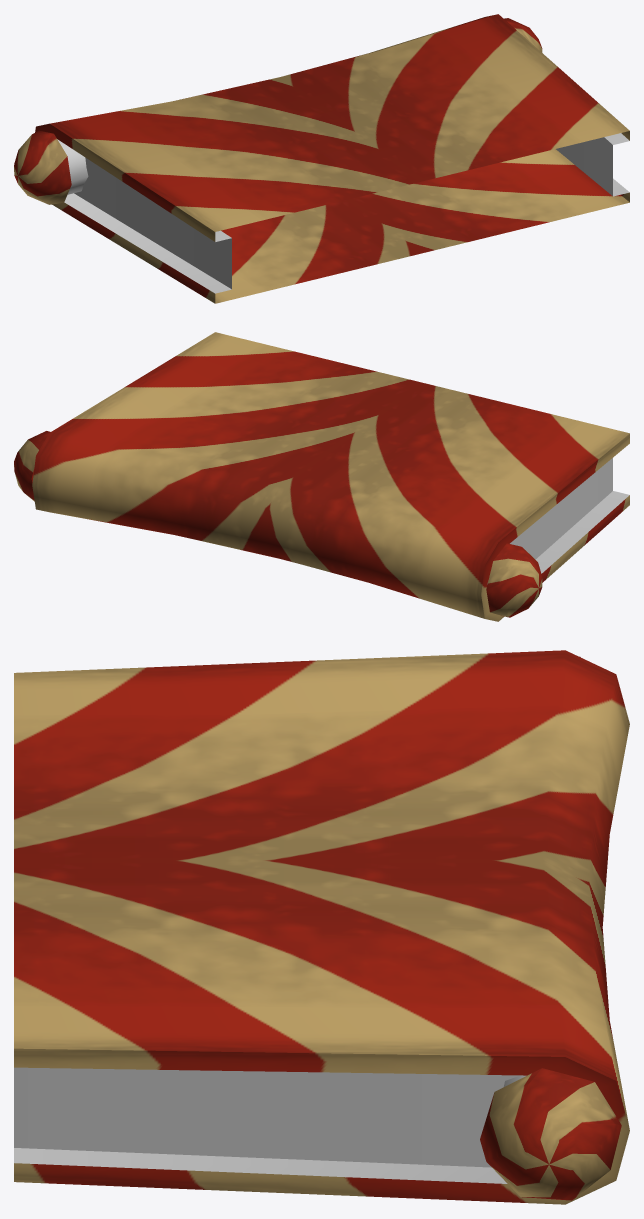
File: MOD_Roller_3_B.FBX
3 renders of one model, top to bottom at view 1: azimuth 30°, elevation 25°; view 2: azimuth 150°, elevation 25°; view 3: azimuth 270°, elevation 25°, orthographic. The views are drawn at different scales.
Visible parts, largest first — view 1: MOD_Roller_3_B; view 2: MOD_Roller_3_B; view 3: MOD_Roller_3_B.
Part boxes in pixels (box(x1,y1,x2,y2)): MOD_Roller_3_B: box(14, 14, 629, 303); MOD_Roller_3_B: box(14, 332, 629, 621); MOD_Roller_3_B: box(14, 650, 629, 1204).
Bounding box in the file's own units: 3.8 × 0.5534 × 2.09.
